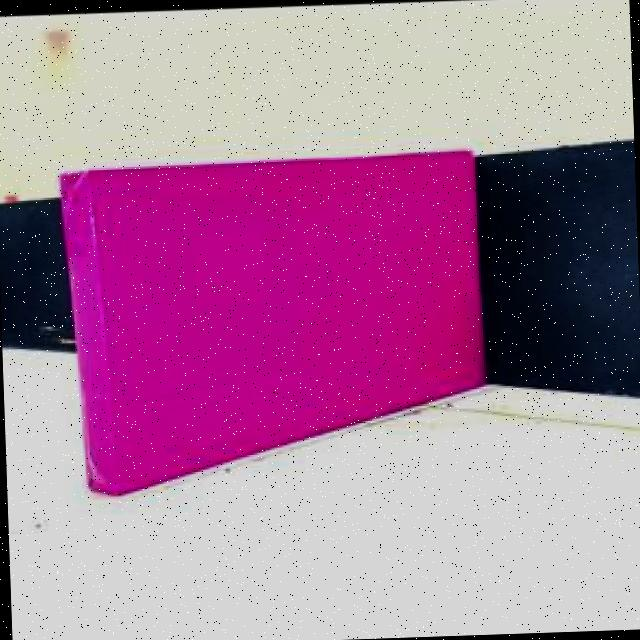xparking: (62, 156, 484, 434)
